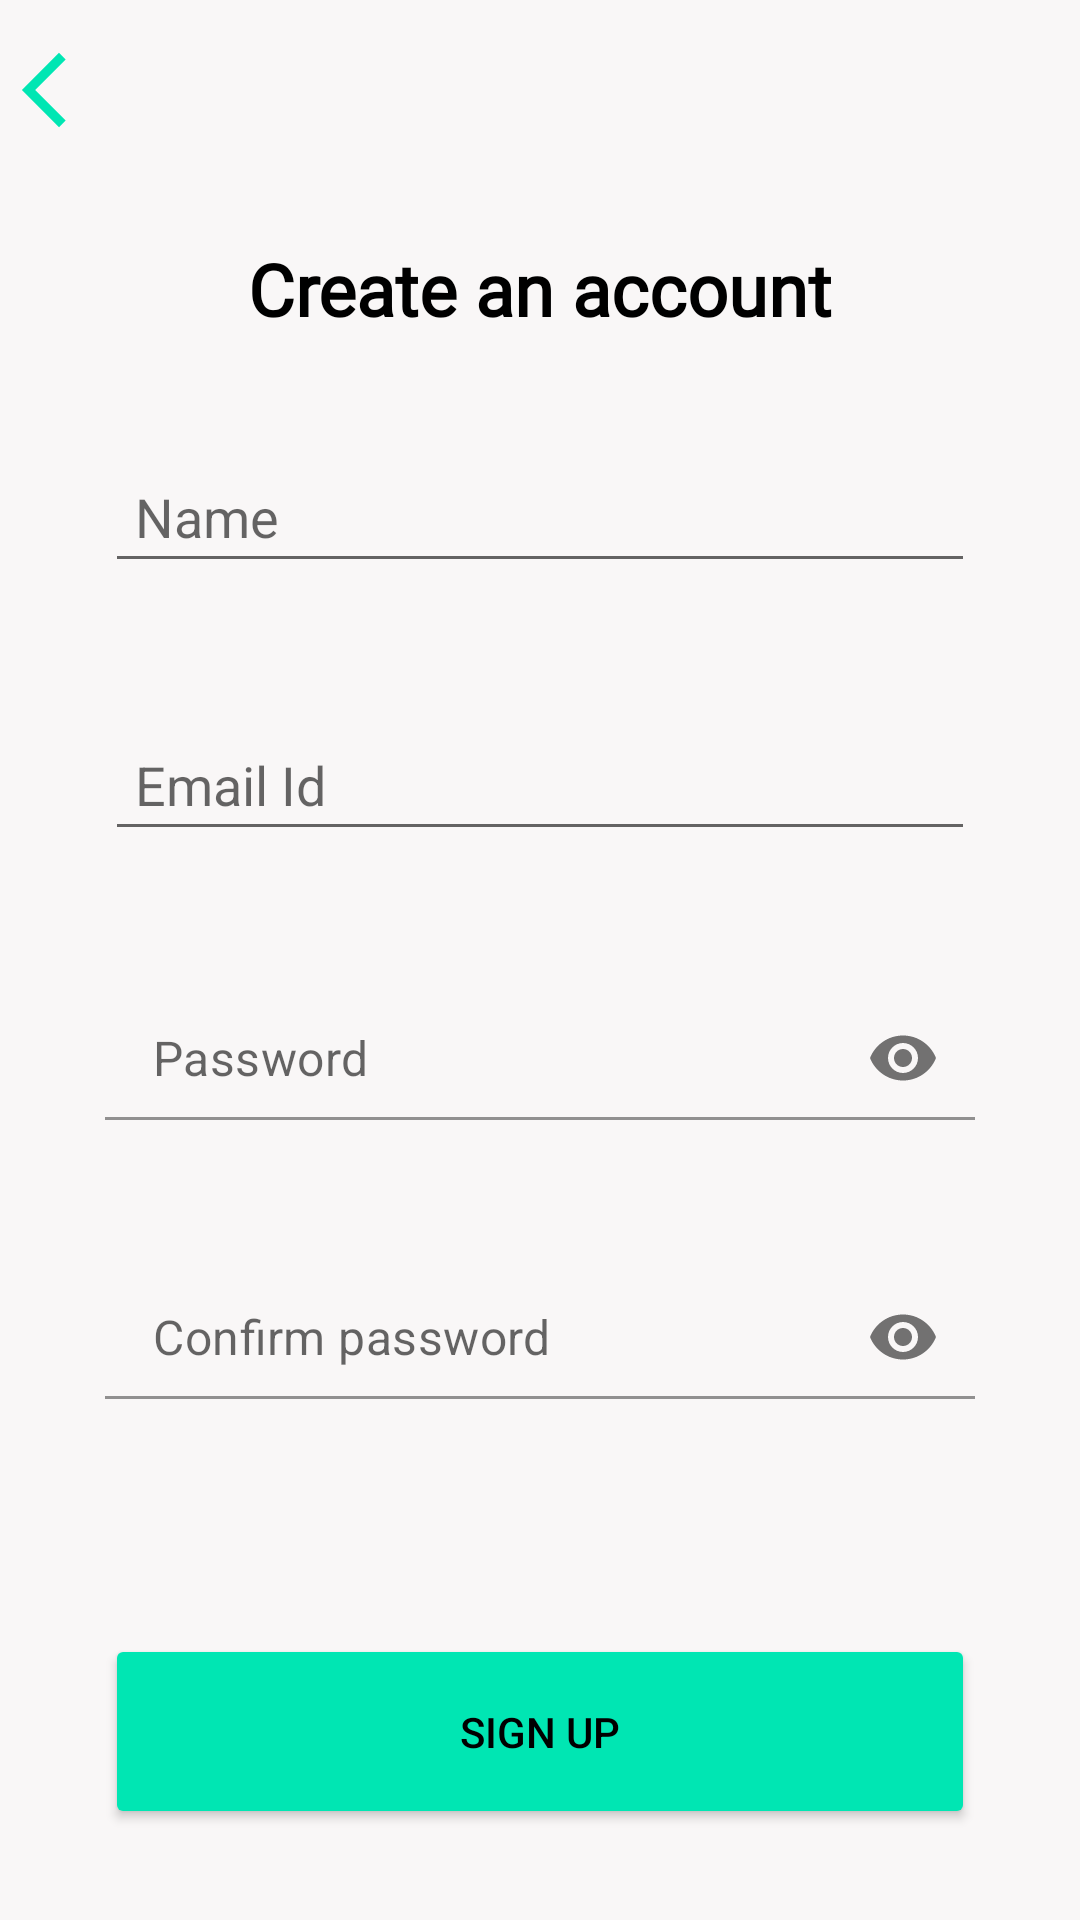

Icon click points for this 1080px×1920px phone screenshot, format (x=x, y=y):
arrow back: (x=44, y=90)
